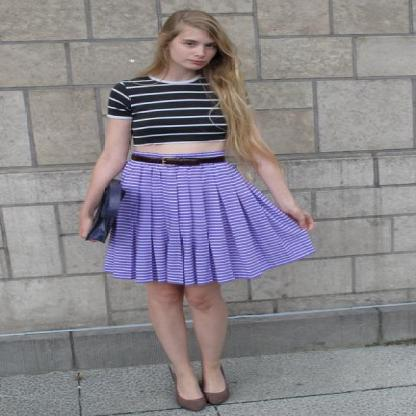shirt: (86, 68, 227, 143)
skirt: (105, 160, 314, 284)
sunglass: (73, 198, 133, 272)
